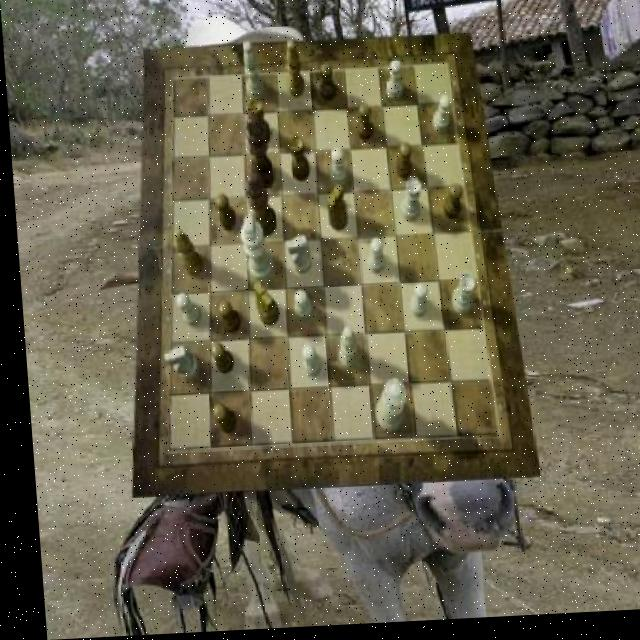bishop: (169, 230, 199, 280), (283, 42, 304, 101)
black-bishop: (242, 117, 273, 192)
black-king: (250, 282, 275, 328), (323, 188, 345, 235)
black-knight: (204, 344, 229, 377), (213, 302, 236, 337), (212, 196, 234, 232), (438, 190, 460, 225), (206, 405, 230, 437), (390, 146, 410, 184), (352, 107, 371, 145), (316, 66, 334, 106)
black-pawn: (239, 174, 273, 241)
black-queen: (246, 102, 271, 148), (286, 137, 307, 184)
black-rook: (242, 44, 263, 104), (331, 329, 355, 373)
white-bishop: (235, 218, 271, 288)
white-king: (158, 347, 193, 383), (281, 239, 306, 278)
white-knight: (171, 295, 197, 330), (428, 99, 451, 138), (382, 64, 401, 105), (403, 287, 424, 322), (325, 151, 344, 189), (362, 242, 382, 277), (296, 347, 315, 381), (288, 293, 307, 324)
white-pawn: (366, 382, 402, 437)
white-queen: (443, 277, 470, 320), (395, 182, 420, 227)
